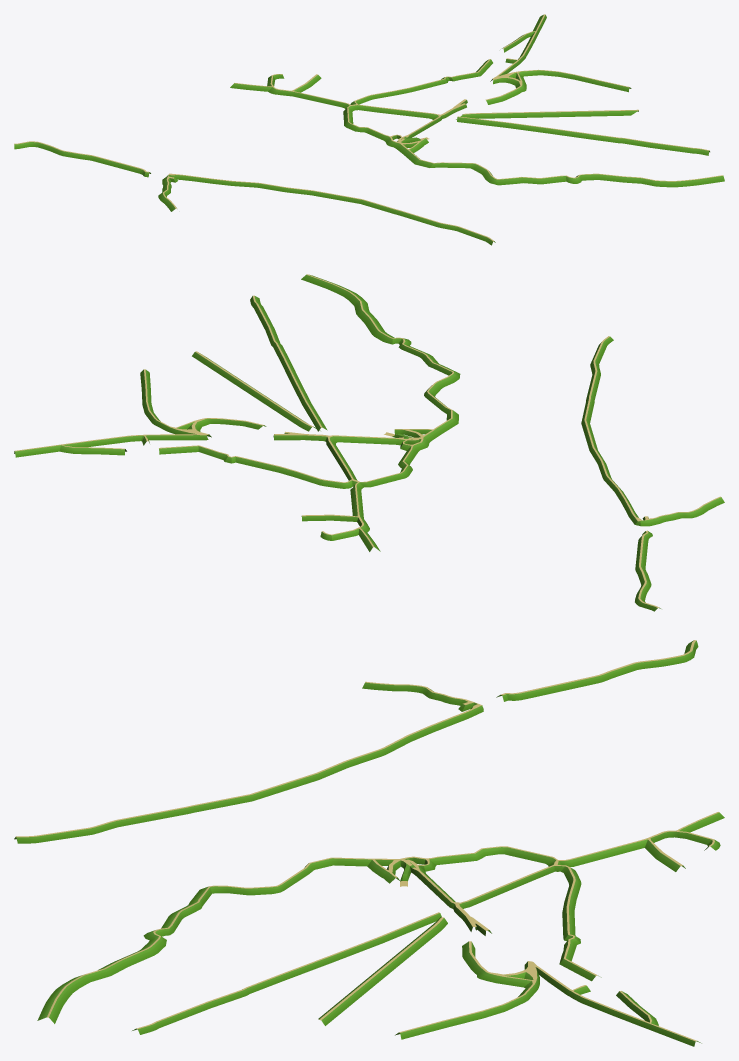
File: SM_Dykes_01.fbx
The picture shows the model from 3 angles, top to bottom: view 1: azimuth 30°, elevation 25°; view 2: azimuth 150°, elevation 25°; view 3: azimuth 270°, elevation 25°; orthographic projection. The views are drawn at different scales.
Parts seen in each view (by area): view 1: SM_Dykes_01; view 2: SM_Dykes_01; view 3: SM_Dykes_01.
Part boxes in pixels (left/top/right/bottom): SM_Dykes_01: left=14, top=14, right=724, bottom=245; SM_Dykes_01: left=14, top=274, right=724, bottom=611; SM_Dykes_01: left=14, top=640, right=724, bottom=1046.
Bounding box in the file's own units: 22.43 × 0.1242 × 16.7.
